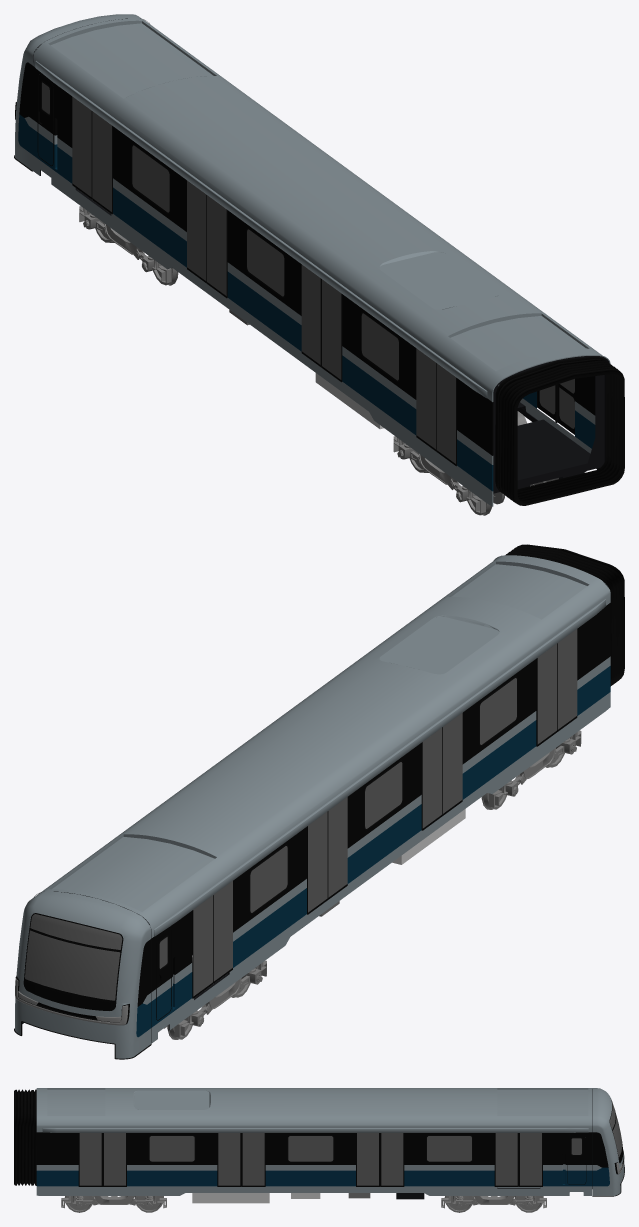
File: 地铁列车尾.fbx
The picture shows the model from 3 angles, top to bottom: view 1: azimuth 30°, elevation 25°; view 2: azimuth 150°, elevation 25°; view 3: azimuth 270°, elevation 25°; orthographic projection. The views are drawn at different scales.
Visible parts, largest first — view 1: 地铁车尾_车体, 后构架, 前构架; view 2: 地铁车尾_车体, 后构架, 前构架; view 3: 地铁车尾_车体, 后构架, 前构架, 后轮对2, 前轮对2, 后轮对1, 前轮对1.
Part boxes in pixels (box(x1,y1,x2,y2)): 地铁车尾_车体: box(14, 14, 624, 506); 后构架: box(393, 411, 526, 513); 前构架: box(79, 206, 171, 283); 地铁车尾_车体: box(14, 544, 624, 1059); 后构架: box(488, 730, 581, 807); 前构架: box(174, 960, 266, 1037); 地铁车尾_车体: box(14, 1088, 624, 1203); 后构架: box(61, 1196, 166, 1208); 前构架: box(441, 1196, 546, 1208); 后轮对2: box(64, 1196, 94, 1212); 前轮对2: box(444, 1196, 474, 1212); 后轮对1: box(134, 1196, 163, 1212); 前轮对1: box(514, 1196, 543, 1212).
Bounding box in the file's own units: 279 × 372 × 2000.
